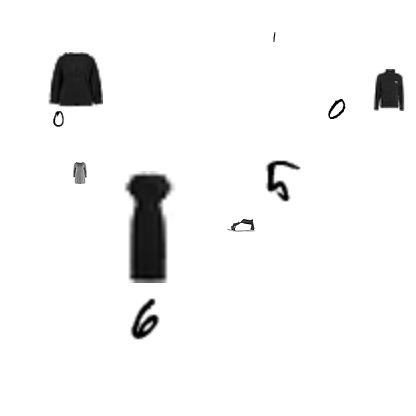0: (322, 95, 350, 123), (47, 107, 69, 129)
1: (267, 30, 281, 44)
5: (250, 151, 306, 207)
6: (115, 293, 171, 349)
Coat: (368, 69, 410, 111)
Dress: (94, 171, 206, 283), (69, 162, 91, 184)
Pullover: (47, 52, 103, 108)
Sandal: (227, 211, 255, 239)
